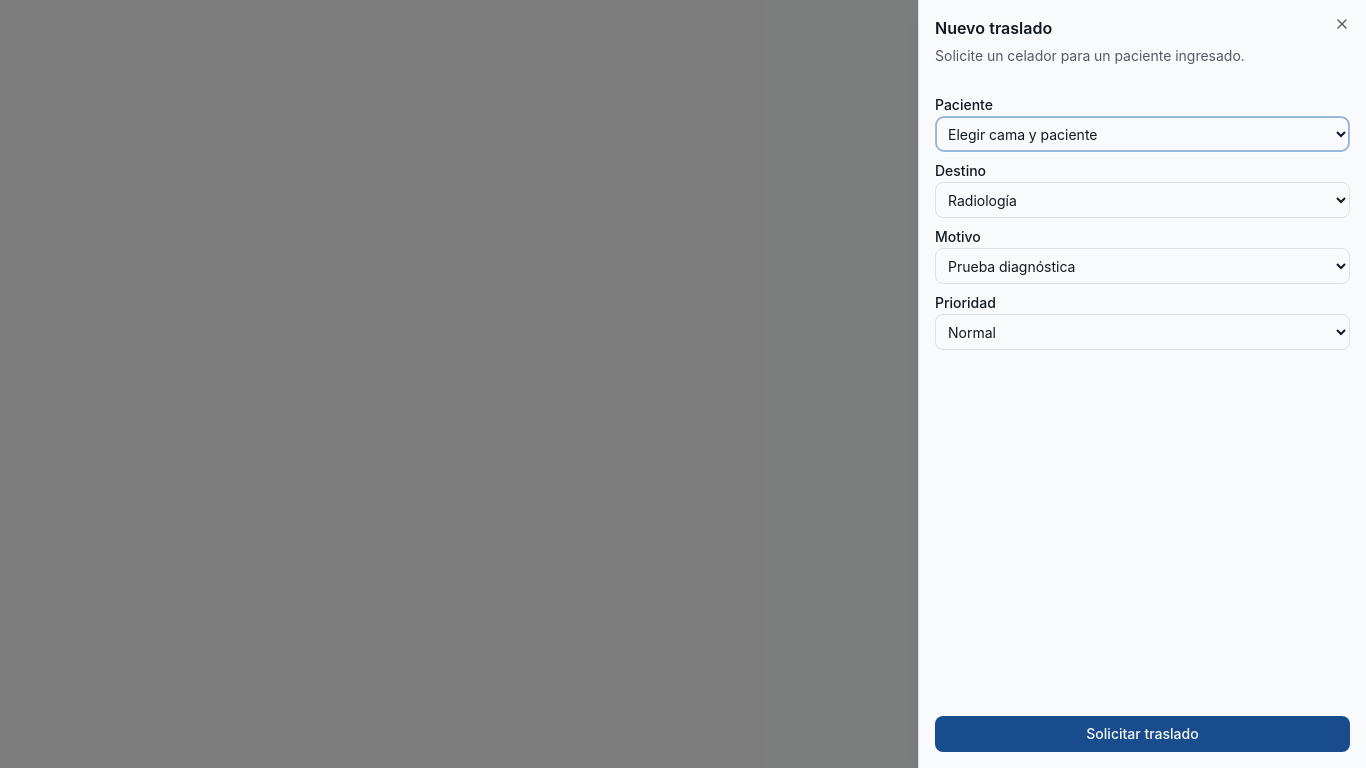
Test: NewTransferSheet › requires a patient
Click the button "Solicitar traslado": (1142, 734) [935,716,1350,752]
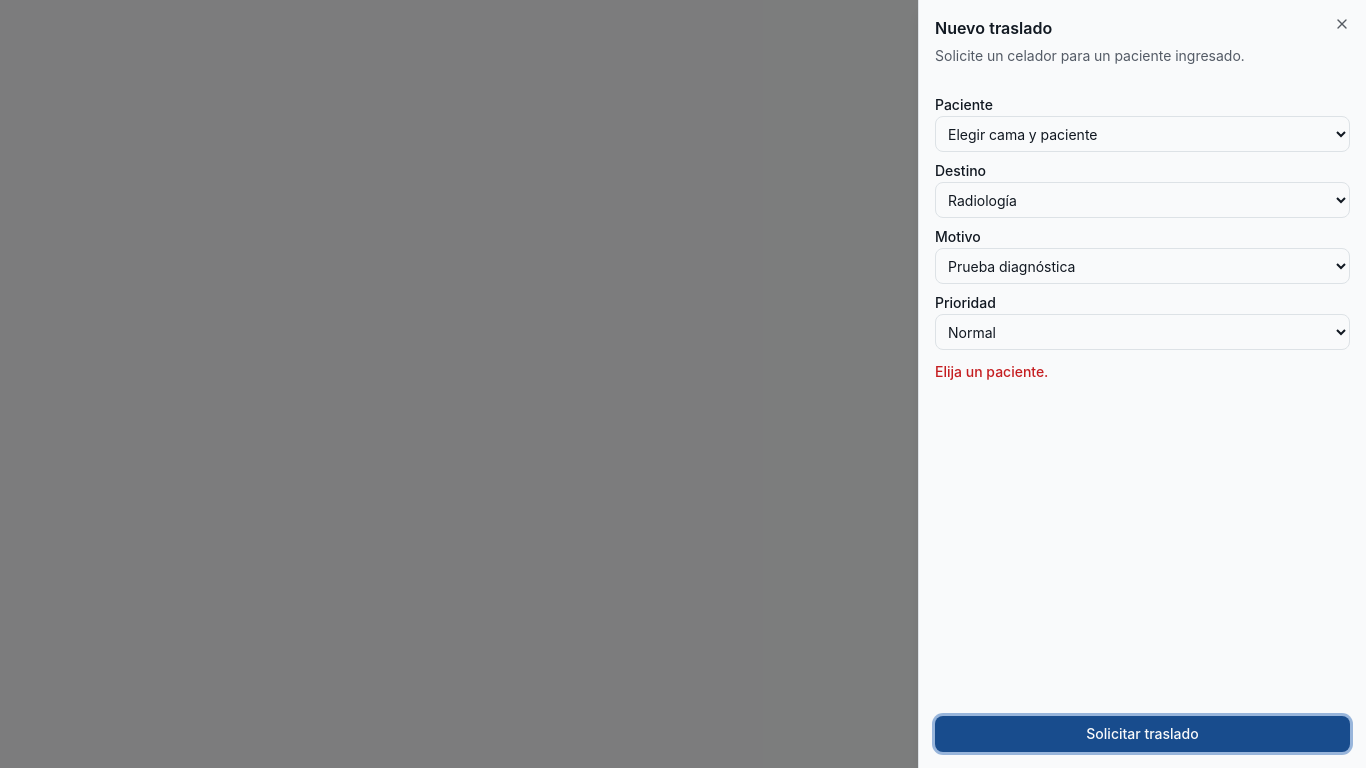
Check: the message reads "Elija un paciente.", box [935,363,1048,380]
